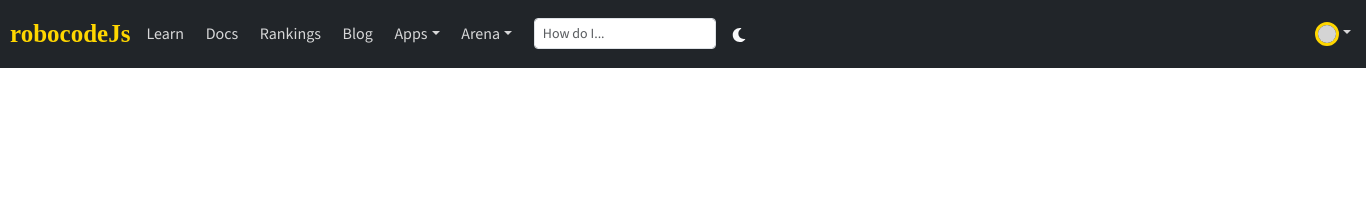
NavBar badges link › offers "Your badges" in the user menu when signed in
Click the button with alt text "Ada L.": (1333, 34) [1315,13,1351,54]
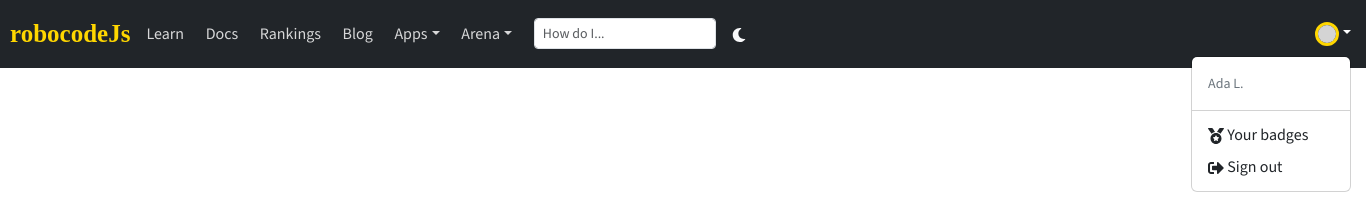
Now the button "Your badges" is shown, box [1208,124,1308,145]
